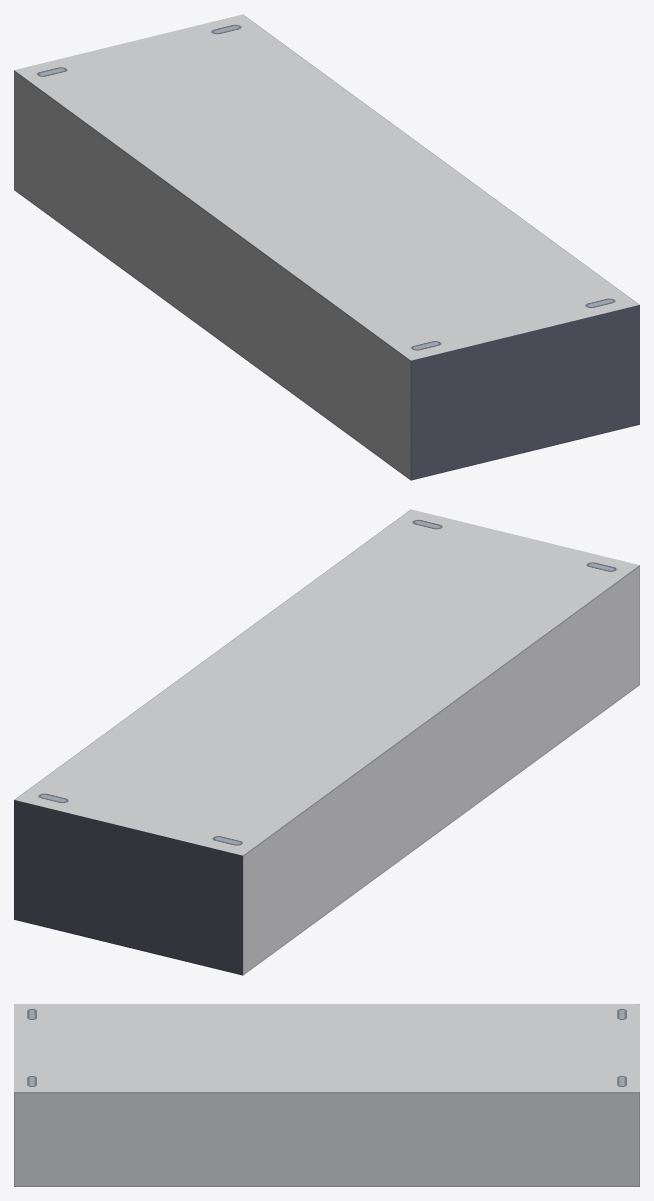
File: Roof_Border_Line_02.FBX
3 renders of one model, top to bottom at view 1: azimuth 30°, elevation 25°; view 2: azimuth 150°, elevation 25°; view 3: azimuth 270°, elevation 25°, orthographic. The views are drawn at different scales.
Visible parts, largest first — view 1: Roof_Border_Line_02; view 2: Roof_Border_Line_02; view 3: Roof_Border_Line_02.
Part boxes in pixels (<box>): Roof_Border_Line_02: <box>14,14,639,480</box>; Roof_Border_Line_02: <box>14,509,639,975</box>; Roof_Border_Line_02: <box>14,1004,639,1186</box>.
Bounding box in the file's own units: 2 × 1 × 6.
